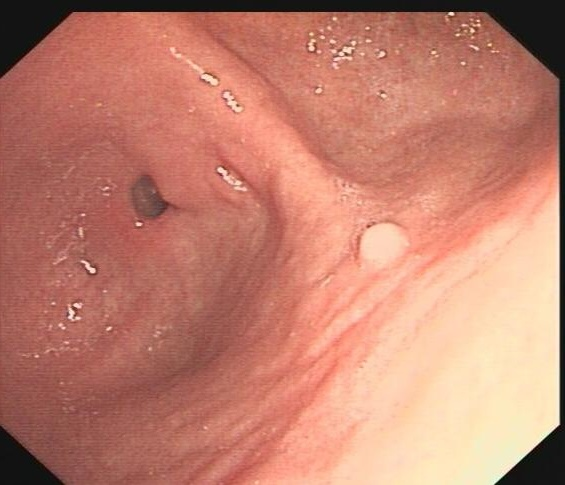Polyp: (347, 215, 419, 278)
